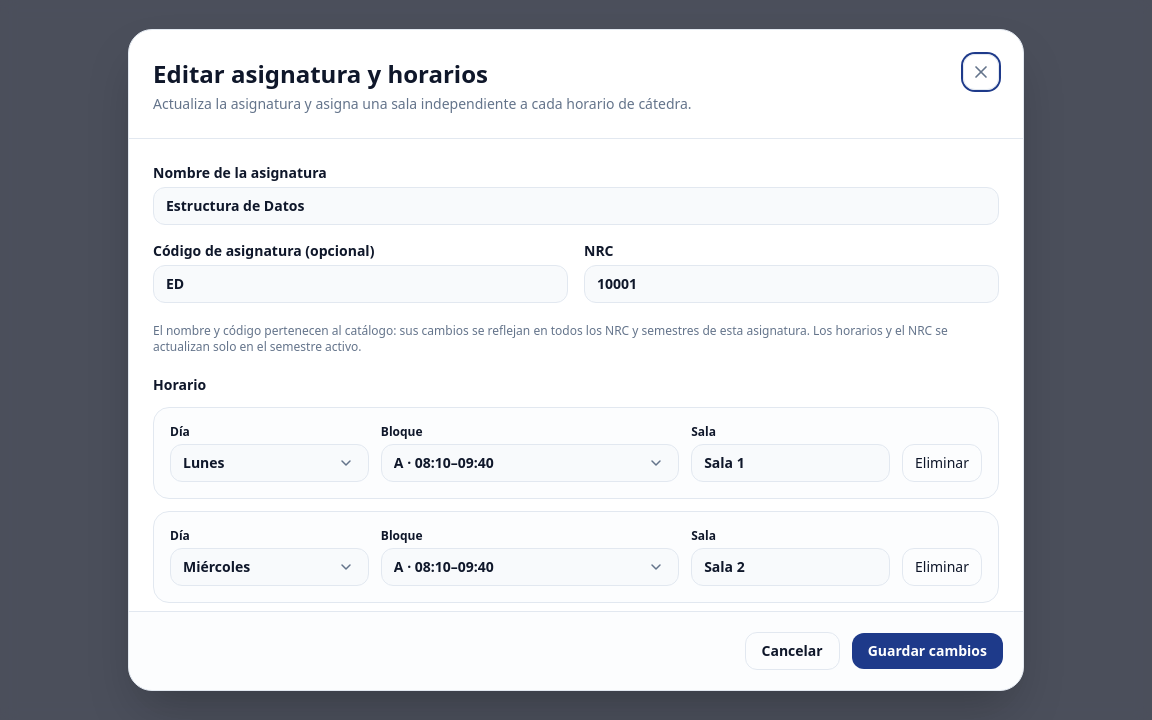
it: Editor de asignaturas › rechaza horarios duplicados sin enviar una petición
Select "Lunes" in the 2nd dropdown labelled "Día" at (269, 567), box [170,548,369,586]
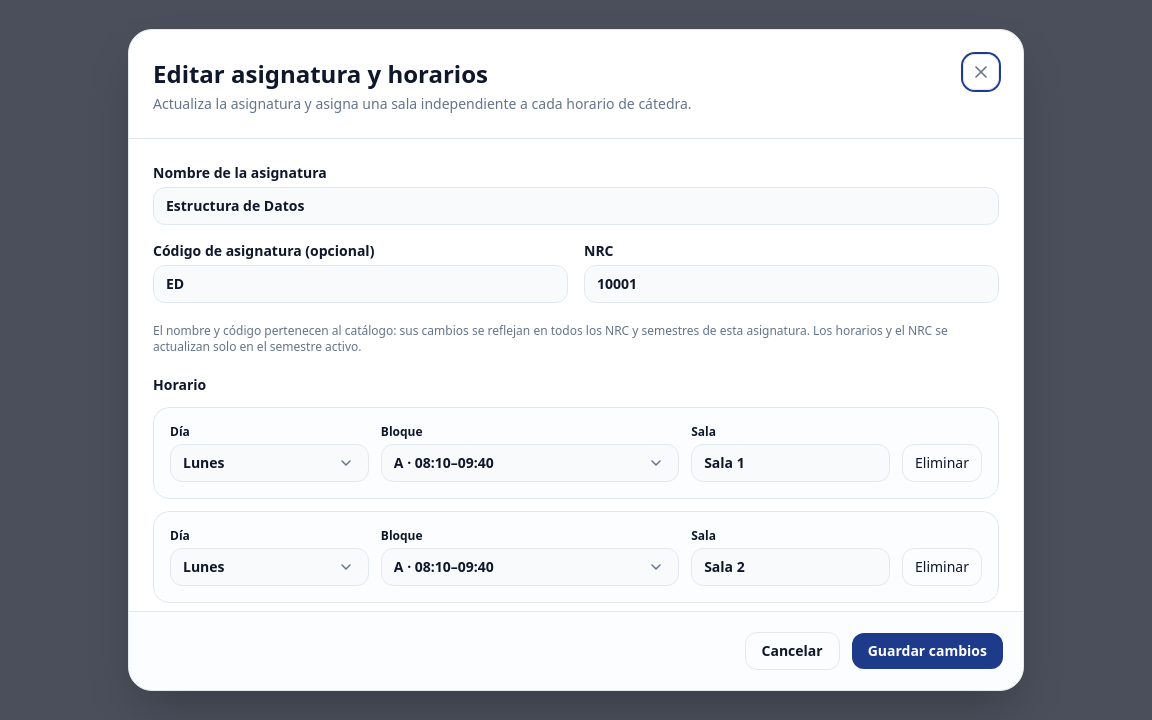
Click the button "Guardar cambios".
click(927, 651)  # box [852,633,1003,669]
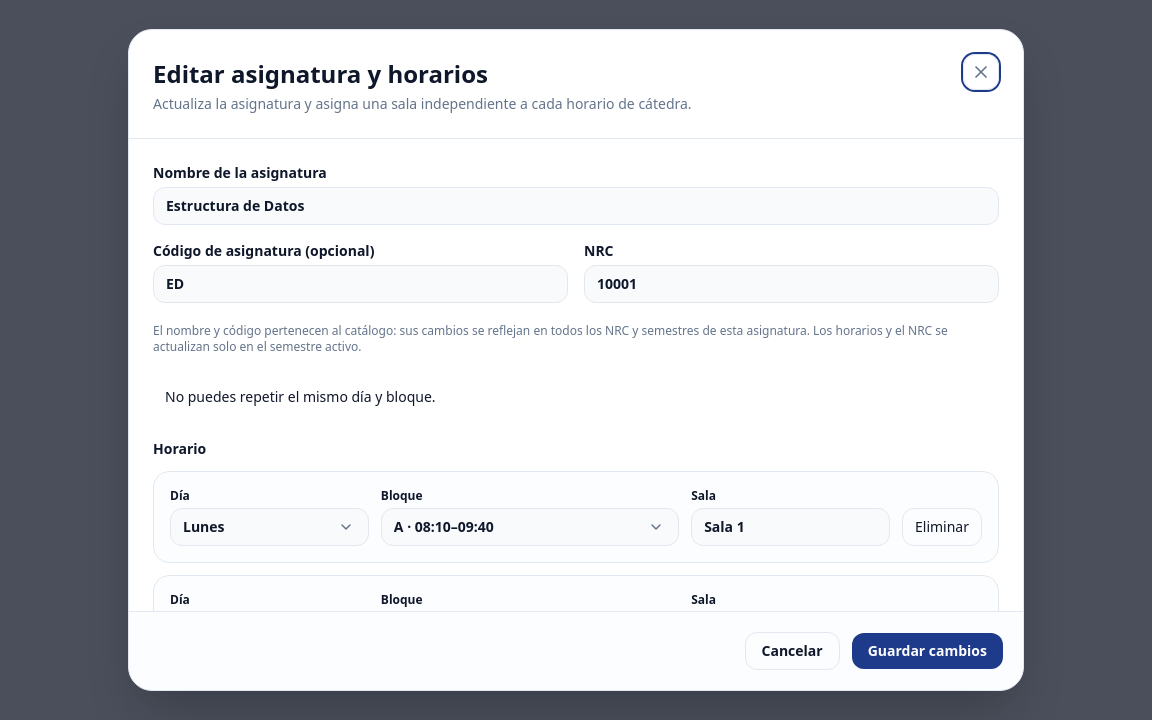
expect the message shows "No puedes repetir": met, box [165,387,436,406]
